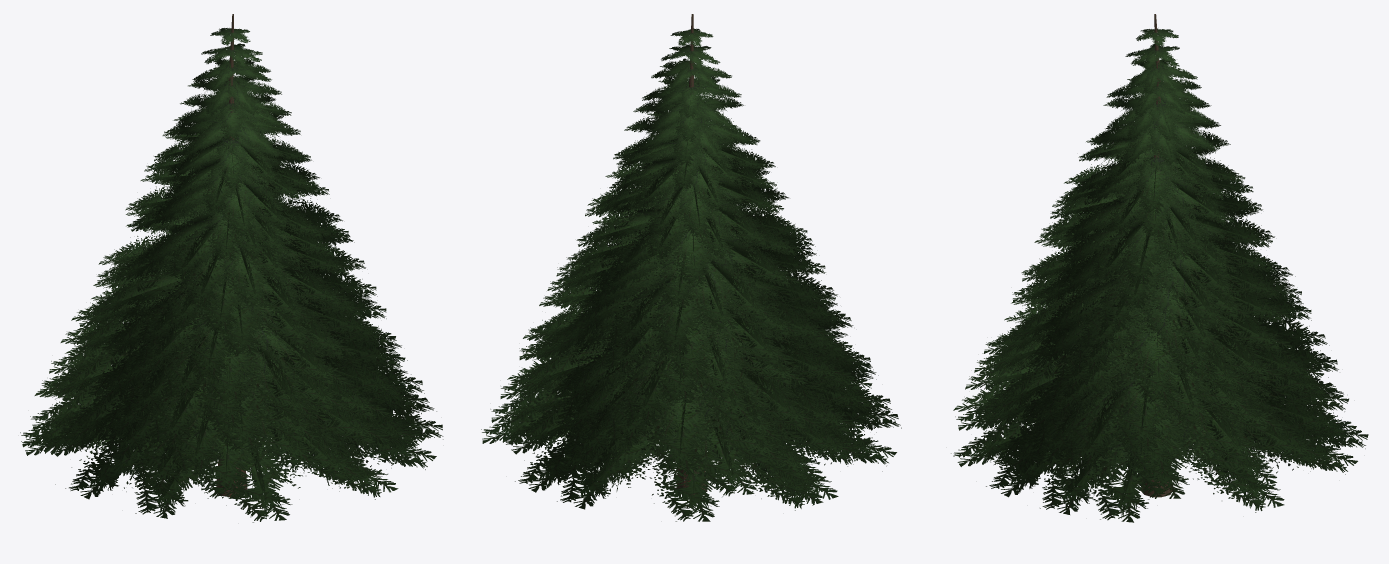
The model's file is tree_conifer_a.glb.
3 renders of one model, left to right at view 1: azimuth 30°, elevation 25°; view 2: azimuth 150°, elevation 25°; view 3: azimuth 270°, elevation 25°, orthographic.
Visible parts, largest first — view 1: tree_conifer_a; view 2: tree_conifer_a; view 3: tree_conifer_a.
Part boxes in pixels (x1,y1,x2,y2): tree_conifer_a: (20, 14, 443, 522); tree_conifer_a: (481, 14, 901, 521); tree_conifer_a: (951, 14, 1368, 522).
Bounding box in the file's own units: 9.97 × 12 × 9.96.
2 materials, 2 textured.
